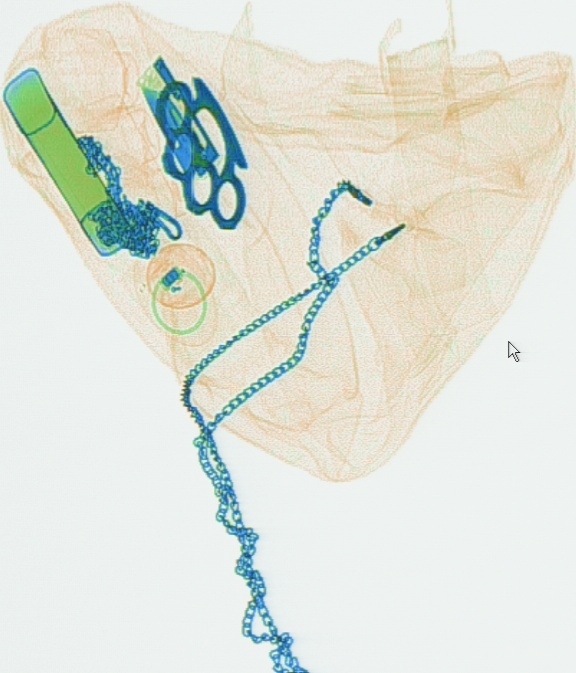knife: (134, 58, 220, 177)
zippooil: (2, 64, 134, 258)
